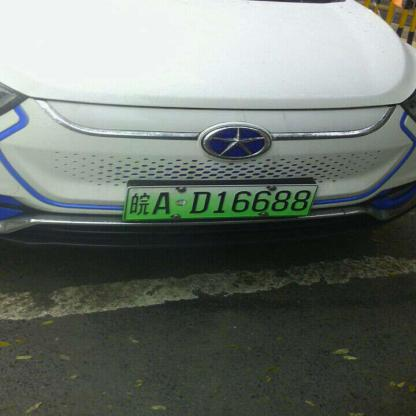lp: (125, 185, 316, 218)
